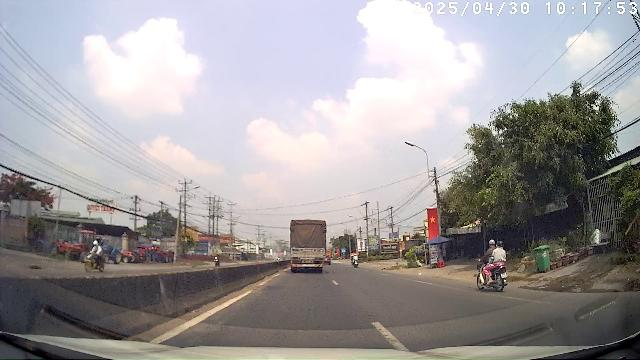423a-duong-nguoi-di-bo-sang-ngang-1: (341, 248, 346, 252)
